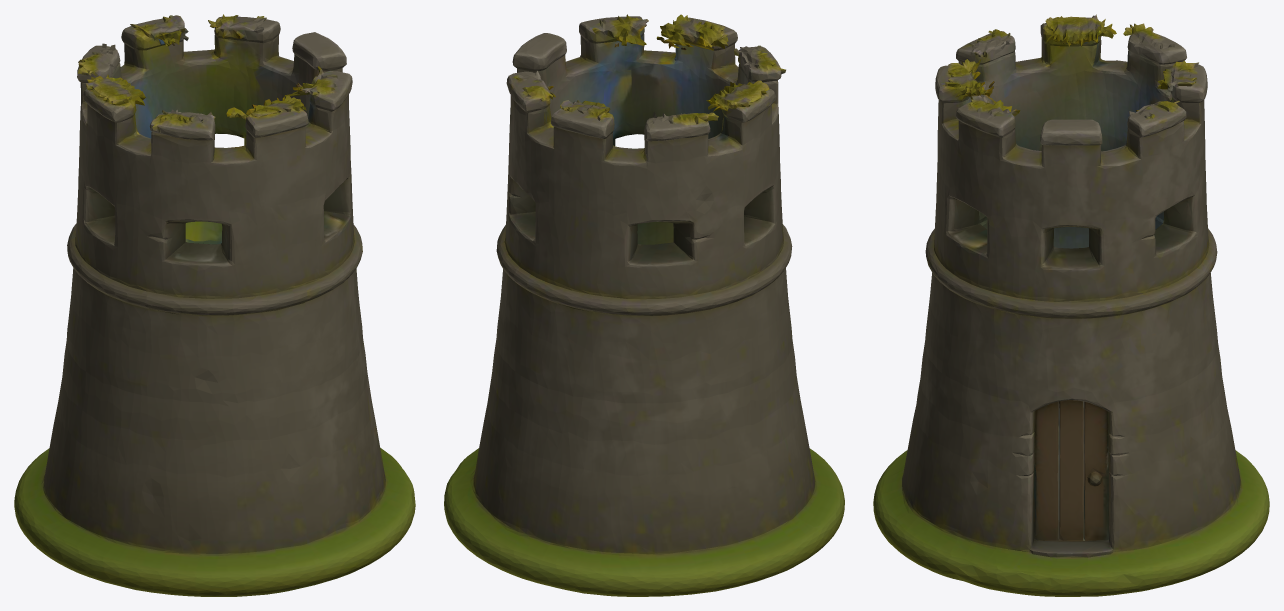
Rendered from torreon_el_barro.glb.
The picture shows the model from 3 angles, left to right: view 1: azimuth 30°, elevation 25°; view 2: azimuth 150°, elevation 25°; view 3: azimuth 270°, elevation 25°; orthographic projection.
Visible parts, largest first — view 1: tripo_node_de663d87-3e11-4ff5-8112-b0c2a2e32ec3; view 2: tripo_node_de663d87-3e11-4ff5-8112-b0c2a2e32ec3; view 3: tripo_node_de663d87-3e11-4ff5-8112-b0c2a2e32ec3.
Part boxes in pixels (box(x1,y1,x2,y2)): tripo_node_de663d87-3e11-4ff5-8112-b0c2a2e32ec3: box(14, 14, 415, 596); tripo_node_de663d87-3e11-4ff5-8112-b0c2a2e32ec3: box(444, 14, 844, 596); tripo_node_de663d87-3e11-4ff5-8112-b0c2a2e32ec3: box(873, 14, 1269, 596).
Bounding box in the file's own units: 0.8003 × 1 × 0.8013.
Materials: 1 (1 with a texture image).
